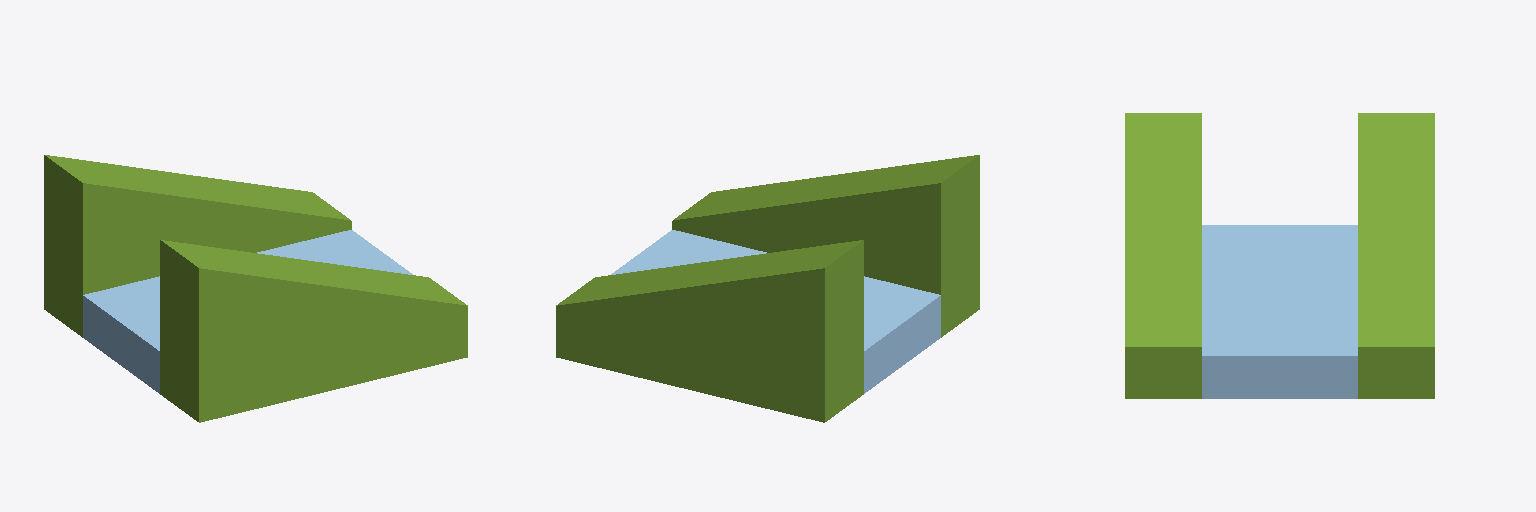
3 views of the same model, side by side, from view 1: azimuth 30°, elevation 25°; view 2: azimuth 150°, elevation 25°; view 3: azimuth 270°, elevation 25° (orthographic).
Parts seen in each view (by area): view 1: roadTile_196.001; view 2: roadTile_196.001; view 3: roadTile_196.001.
Boxes of the visible parts, x1=… form: roadTile_196.001: x1=44, y1=155, x2=467, y2=422; roadTile_196.001: x1=556, y1=155, x2=979, y2=422; roadTile_196.001: x1=1125, y1=113, x2=1434, y2=398.
Size of the model in its own units: 3 by 1.65 by 3.